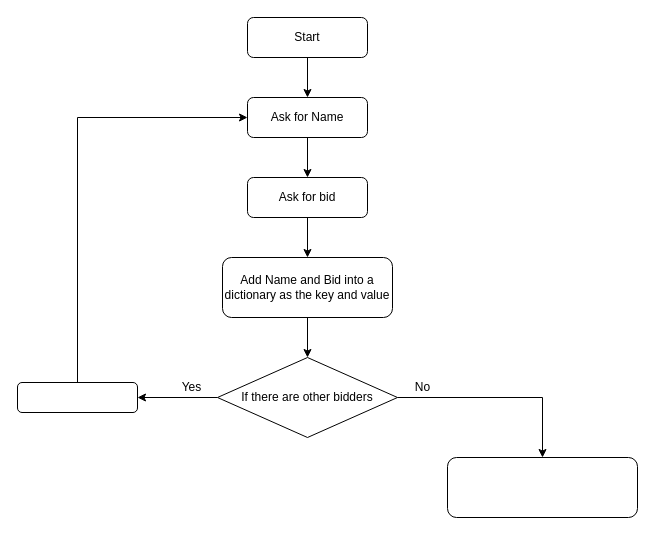
Image size: 655x535. Some labels were removed from this diagram. Here are the shapes that lost their labels. From the top down, the centre of each, then its label:
the point at 77,397: Clear the screen
the point at 542,487: Find the highest bid in the dictionary and declare them as the winner
